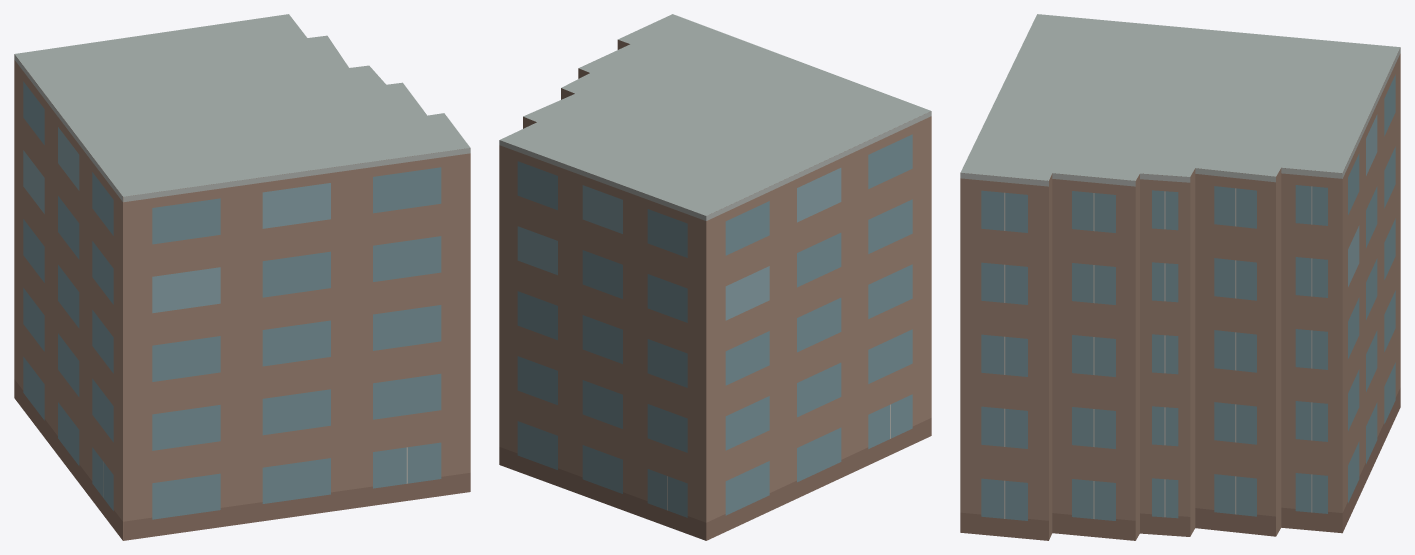
The model's file is survey-upis-32606289.glb.
3 views of the same model, side by side, from view 1: azimuth 30°, elevation 25°; view 2: azimuth 150°, elevation 25°; view 3: azimuth 270°, elevation 25° (orthographic). The views are drawn at different scales.
Parts seen in each view (by area): view 1: survey-upis-32606289.tmp; view 2: survey-upis-32606289.tmp; view 3: survey-upis-32606289.tmp.
Part boxes in pixels (x1=…): survey-upis-32606289.tmp: x1=14, y1=14, x2=470, y2=540; survey-upis-32606289.tmp: x1=499, y1=14, x2=931, y2=540; survey-upis-32606289.tmp: x1=960, y1=14, x2=1400, y2=540.
Size of the model in its own units: 15.32 by 15.4 by 17.07.
